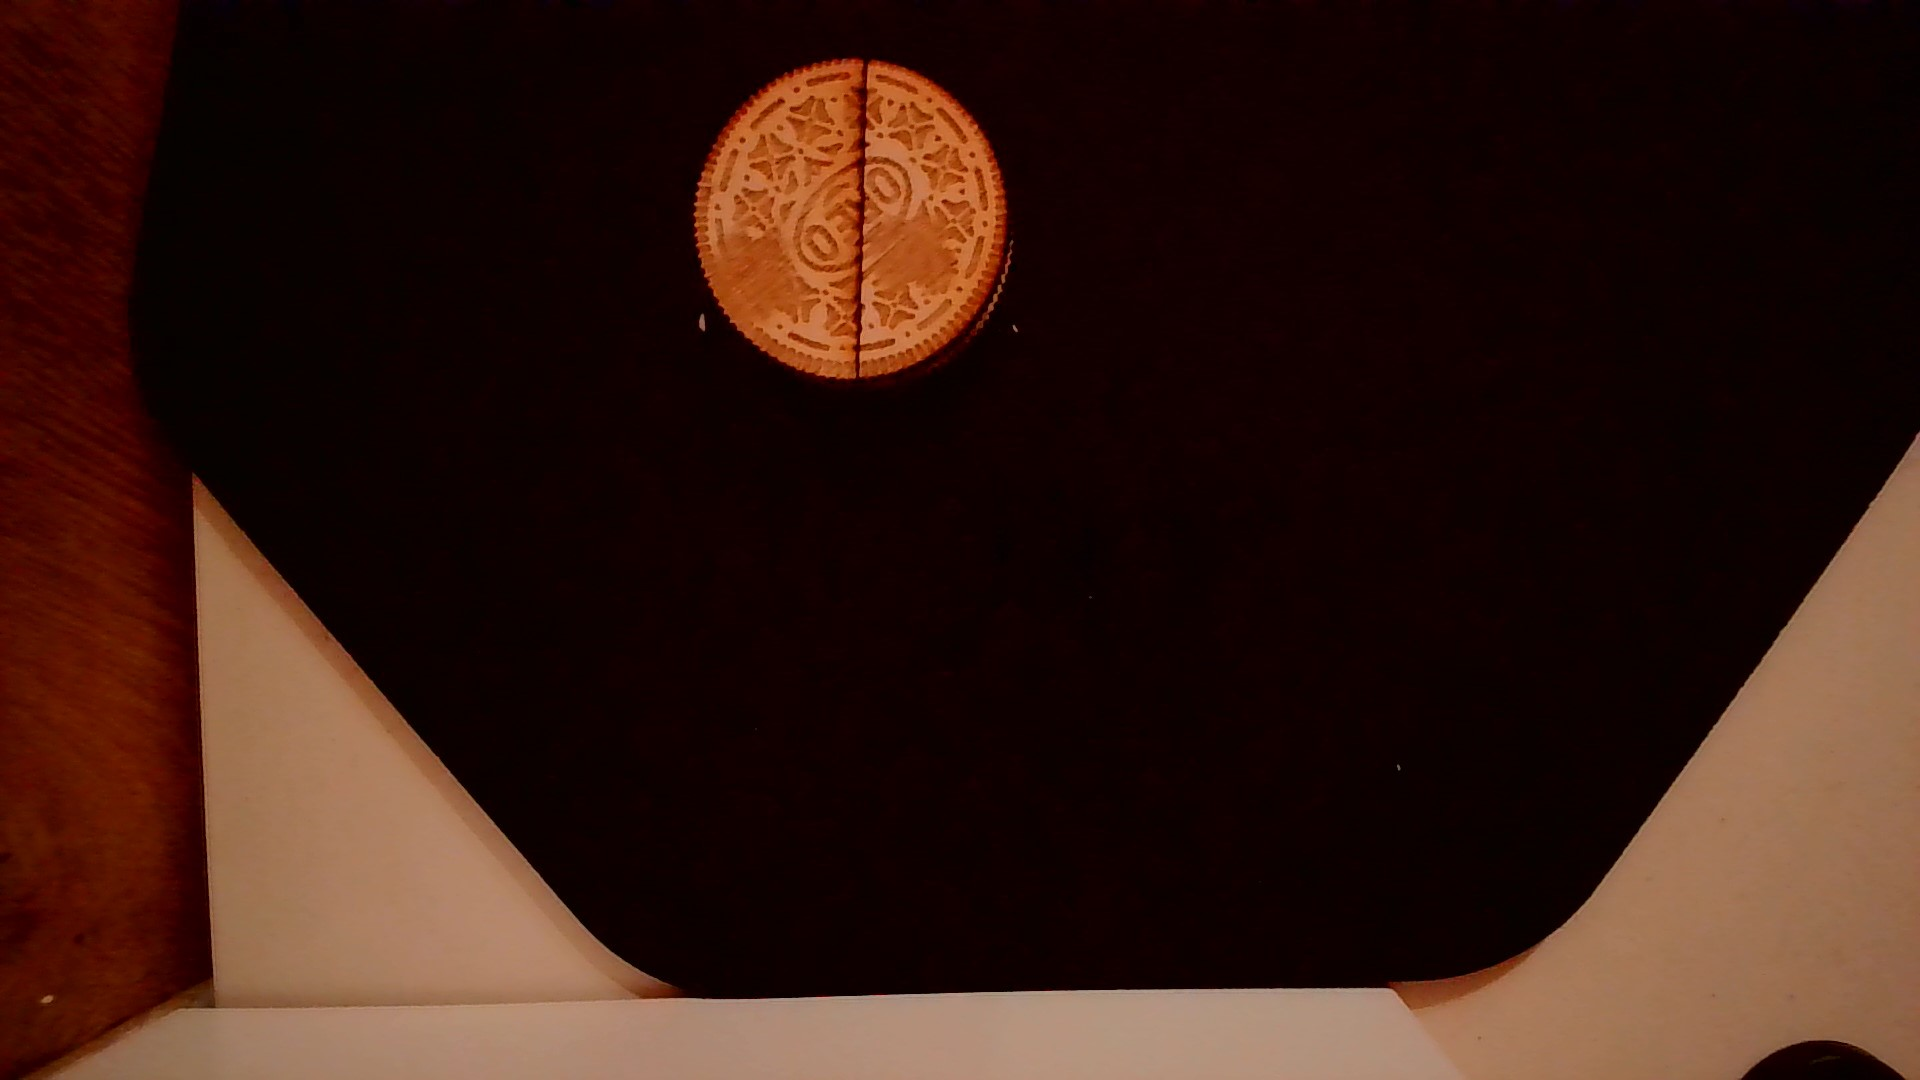Effacé: (705, 225, 793, 331), (870, 222, 952, 282)
Fissure: (843, 61, 876, 380)
Oréo: (684, 51, 1023, 392)
